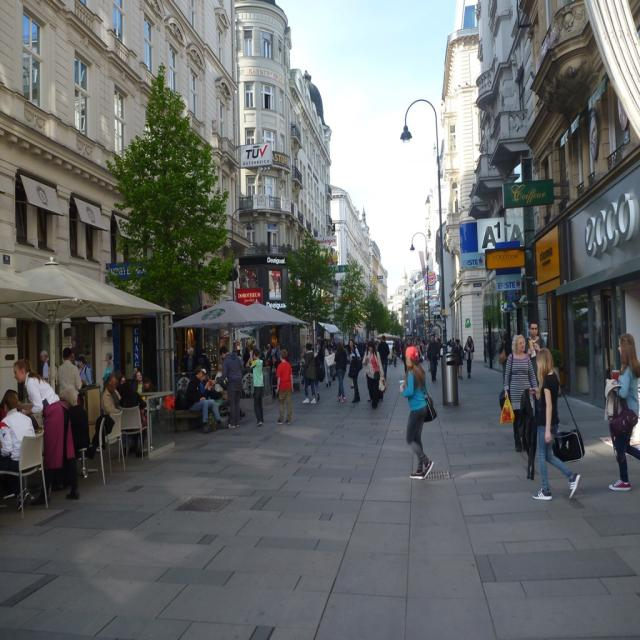body: (11, 356, 82, 502), (528, 346, 582, 502), (602, 329, 640, 494), (398, 344, 438, 481), (497, 332, 541, 454), (0, 387, 37, 512), (182, 365, 230, 434), (208, 344, 246, 429), (57, 346, 83, 459), (119, 378, 148, 458), (99, 373, 122, 457), (214, 362, 246, 418), (274, 346, 294, 426), (245, 348, 265, 428), (362, 339, 384, 409), (198, 369, 220, 432), (524, 318, 547, 378), (346, 337, 364, 405), (298, 342, 317, 405), (333, 339, 349, 403), (497, 331, 513, 391), (396, 332, 428, 362), (375, 333, 391, 386), (310, 347, 324, 403), (130, 371, 148, 411), (426, 332, 440, 383), (39, 349, 59, 384), (101, 351, 116, 393), (76, 353, 93, 388), (463, 335, 475, 379), (454, 337, 466, 381), (574, 329, 589, 364), (322, 338, 332, 388), (327, 336, 337, 382), (403, 338, 413, 378), (200, 348, 212, 380), (184, 346, 197, 372), (140, 377, 158, 393), (265, 342, 273, 378), (273, 342, 282, 371), (439, 338, 455, 354), (272, 270, 281, 298), (488, 330, 496, 361), (363, 337, 378, 352), (390, 340, 398, 367), (241, 275, 250, 297), (269, 353, 279, 372), (282, 347, 292, 365), (260, 344, 269, 362), (70, 346, 78, 366), (355, 338, 364, 355), (131, 364, 141, 376), (271, 344, 277, 357), (114, 368, 120, 380), (198, 356, 205, 366), (341, 338, 348, 348)
